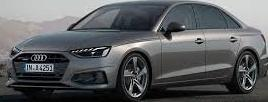Cars: (7, 2, 267, 101)
